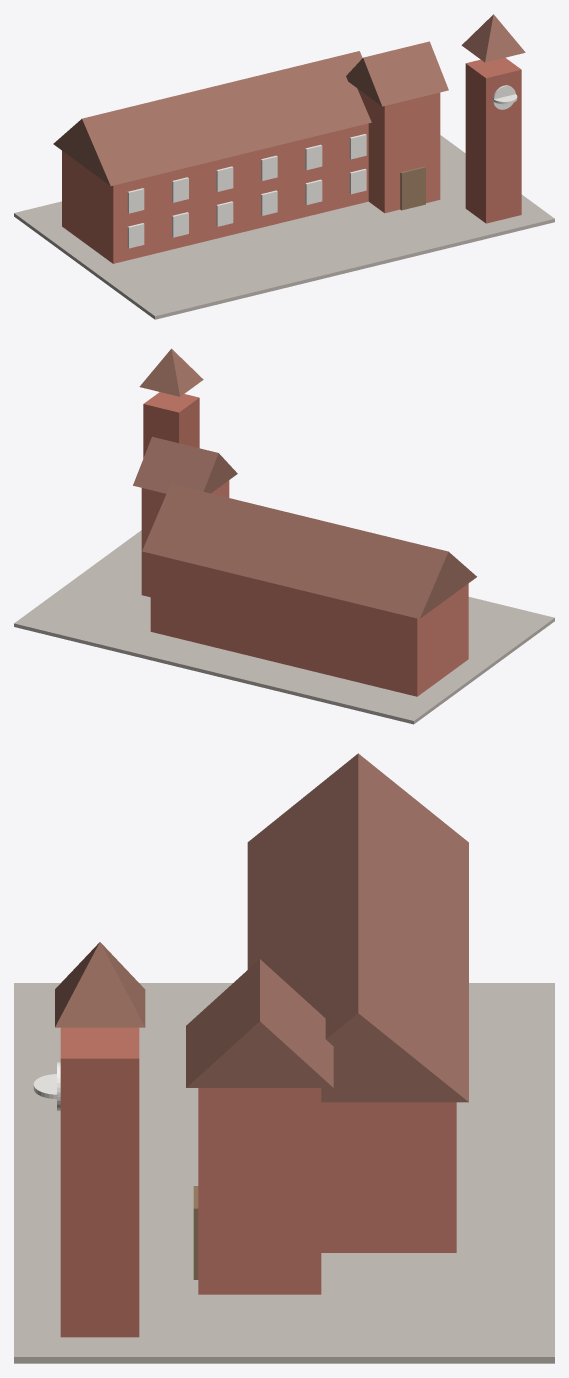
Rendered from stadthuys.glb.
The picture shows the model from 3 angles, top to bottom: view 1: azimuth 30°, elevation 25°; view 2: azimuth 150°, elevation 25°; view 3: azimuth 270°, elevation 25°; orthographic projection. The views are drawn at different scales.
Visible parts, largest first — view 1: geometry_0, geometry_2, geometry_1, geometry_18, geometry_15, geometry_16, geometry_19, geometry_17, geometry_3, geometry_7, geometry_12, geometry_14 (+8 smaller); view 2: geometry_1, geometry_2, geometry_0, geometry_16, geometry_18, geometry_19, geometry_15; view 3: geometry_0, geometry_2, geometry_15, geometry_18, geometry_1, geometry_16, geometry_19.
Boxes of the visible parts, x1,y1,x2,y2 form: geometry_0: (14, 135, 554, 319); geometry_2: (53, 51, 371, 185); geometry_1: (62, 123, 368, 263); geometry_18: (465, 57, 521, 223); geometry_15: (357, 88, 440, 213); geometry_16: (346, 41, 448, 106); geometry_19: (461, 14, 525, 62); geometry_17: (400, 166, 425, 210); geometry_3: (127, 223, 144, 248); geometry_7: (216, 201, 233, 226); geometry_12: (305, 144, 322, 170); geometry_14: (349, 134, 366, 159); geometry_1: (150, 553, 468, 696); geometry_2: (142, 484, 476, 618); geometry_0: (14, 530, 554, 724); geometry_16: (133, 436, 237, 493); geometry_18: (143, 392, 199, 457); geometry_19: (139, 348, 203, 396); geometry_15: (141, 480, 229, 597); geometry_0: (14, 983, 554, 1363); geometry_2: (247, 753, 468, 1102); geometry_15: (198, 1088, 321, 1294); geometry_18: (60, 1027, 139, 1337); geometry_1: (321, 1102, 456, 1252); geometry_16: (186, 959, 333, 1087); geometry_19: (55, 942, 145, 1027).
Size of the model in its own units: 3.6 by 1.73 by 2.2.
